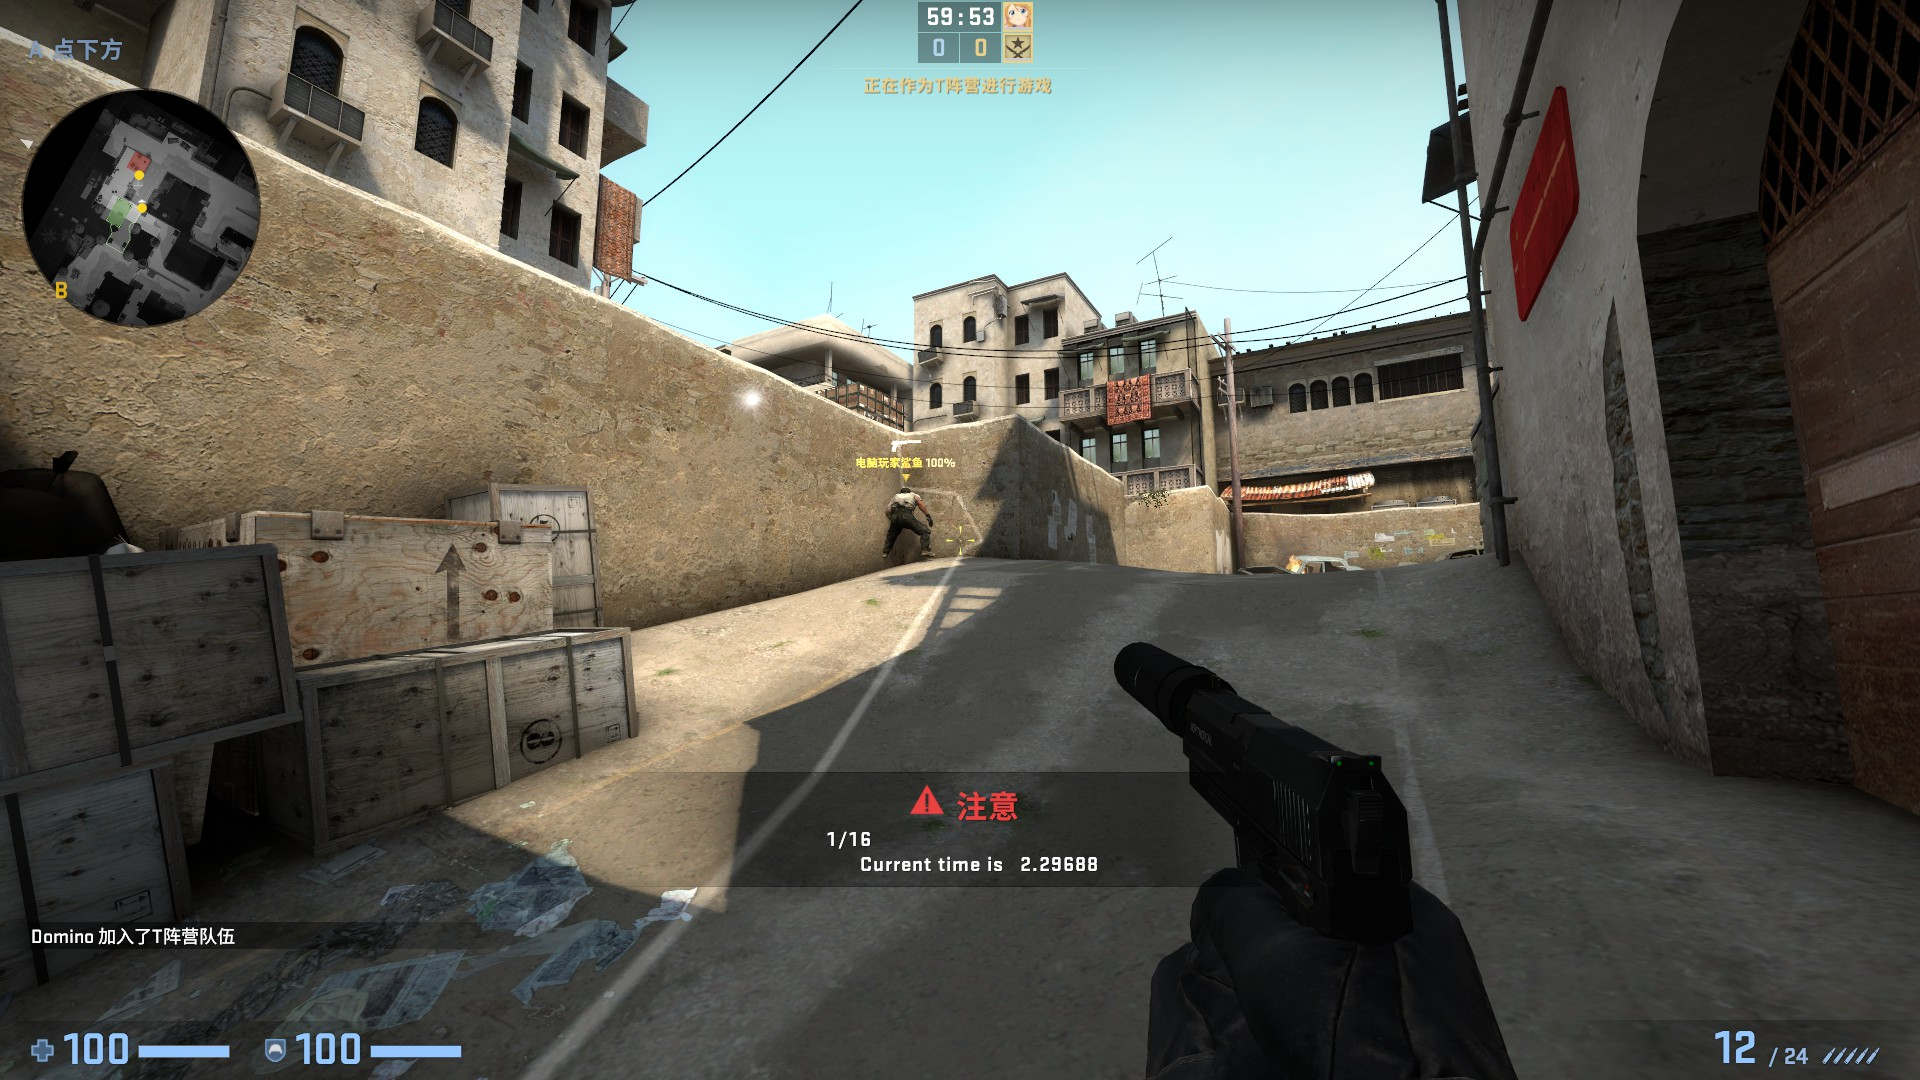head: (897, 486, 912, 497)
